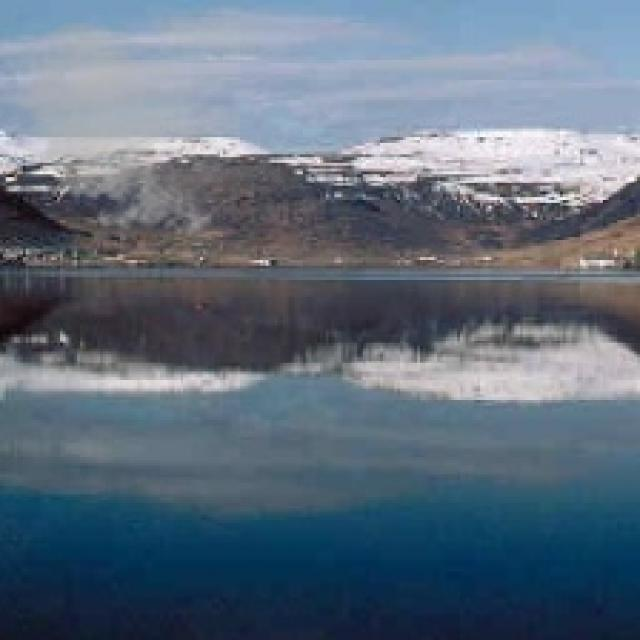smoke: (9, 14, 240, 243)
